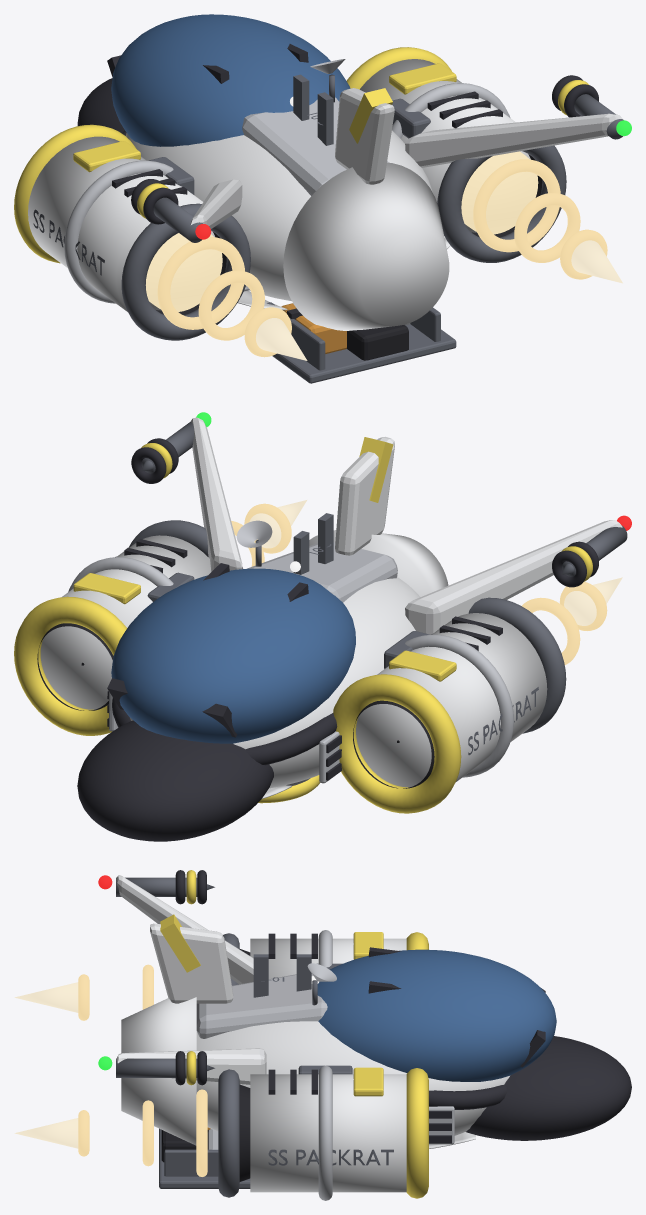
File: collector.glb
3 views of the same model, one above another, from view 1: azimuth 30°, elevation 25°; view 2: azimuth 150°, elevation 25°; view 3: azimuth 270°, elevation 25° (orthographic). The views are drawn at different scales.
Visible parts, largest first — view 1: BoatTail, Canopy, MainHull, NacelleL, BoomR, NozzleRingL, DorsalDeck, NozzleRingR, TailFin, NacelleR, ThrusterR, ThrusterL (+31 smaller); view 2: Canopy, NoseCap, NacelleL, IntakeRingL, NacelleR, MainHull, IntakeRingR, BoomL, TailFin, BoomR, DorsalDeck, NozzleRingL (+23 smaller); view 3: Canopy, NacelleR, NoseCap, MainHull, BoatTail, DorsalDeck, TailFin, IntakeRingR, NozzleRingR, NacelleL, BoomL, BoomR (+23 smaller).
Part boxes in pixels (x1=…): BoatTail: x1=283, y1=162, x2=449, y2=330; Canopy: x1=111, y1=14, x2=350, y2=146; MainHull: x1=126, y1=130, x2=433, y2=301; NacelleL: x1=28, y1=136, x2=214, y2=311; BoomR: x1=405, y1=113, x2=622, y2=167; NozzleRingL: x1=121, y1=203, x2=250, y2=340; DorsalDeck: x1=242, y1=97, x2=388, y2=195; NozzleRingR: x1=437, y1=145, x2=566, y2=262; TailFin: x1=335, y1=88, x2=394, y2=184; NacelleR: x1=360, y1=59, x2=530, y2=232; ThrusterR: x1=461, y1=151, x2=538, y2=234; ThrusterL: x1=145, y1=233, x2=222, y2=311; Canopy: x1=111, y1=568, x2=355, y2=743; NoseCap: x1=77, y1=720, x2=273, y2=841; NacelleL: x1=356, y1=613, x2=547, y2=787; IntakeRingL: x1=333, y1=674, x2=461, y2=813; NacelleR: x1=40, y1=535, x2=211, y2=709; MainHull: x1=130, y1=577, x2=420, y2=788; IntakeRingR: x1=14, y1=596, x2=127, y2=735; BoomL: x1=405, y1=520, x2=622, y2=634; TailFin: x1=335, y1=437, x2=394, y2=555; BoomR: x1=191, y1=417, x2=242, y2=571; DorsalDeck: x1=247, y1=542, x2=397, y2=602; NozzleRingL: x1=468, y1=597, x2=566, y2=733; Canopy: x1=317, y1=949, x2=556, y2=1081; NacelleR: x1=250, y1=1074, x2=406, y2=1192; NoseCap: x1=466, y1=1036, x2=631, y2=1140; MainHull: x1=196, y1=1021, x2=509, y2=1135; BoatTail: x1=121, y1=997, x2=196, y2=1145; DorsalDeck: x1=196, y1=974, x2=327, y2=1038; TailFin: x1=150, y1=923, x2=233, y2=1003; IntakeRingR: x1=406, y1=1068, x2=428, y2=1198; NozzleRingR: x1=218, y1=1069, x2=239, y2=1197; NacelleL: x1=250, y1=938, x2=406, y2=978; BoomL: x1=116, y1=875, x2=253, y2=984; BoomR: x1=116, y1=1048, x2=266, y2=1084.
Size of the model in its own units: 12.1 by 6.88 by 16.1.
